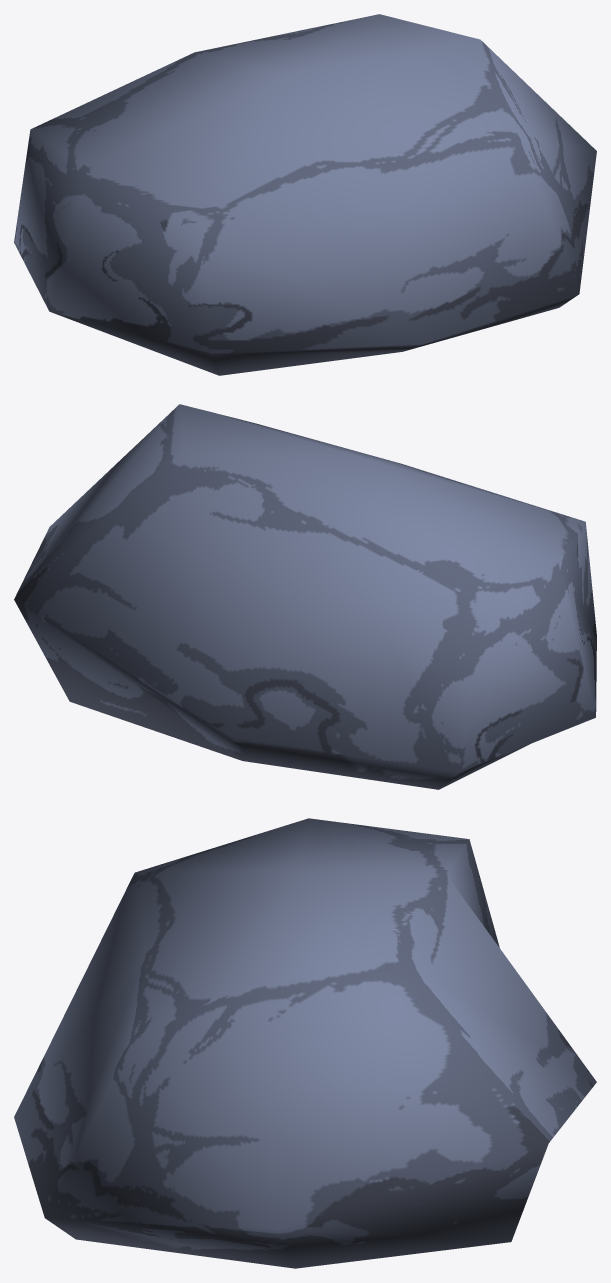
File: rock_a.glb
3 views of the same model, one above another, from view 1: azimuth 30°, elevation 25°; view 2: azimuth 150°, elevation 25°; view 3: azimuth 270°, elevation 25° (orthographic). The views are drawn at different scales.
Parts seen in each view (by area): view 1: rock2; view 2: rock2; view 3: rock2.
Part boxes in pixels (bbox=[...]): rock2: bbox=[14, 14, 596, 375]; rock2: bbox=[14, 404, 596, 789]; rock2: bbox=[14, 818, 596, 1268].
Bounding box in the file's own units: 1.5 × 0.5744 × 1.17.
1 material, 1 textured.
